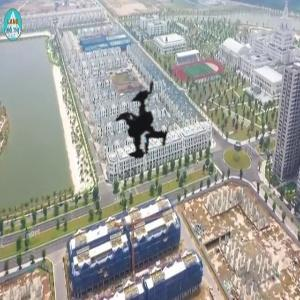drone: (69, 23, 266, 220)
